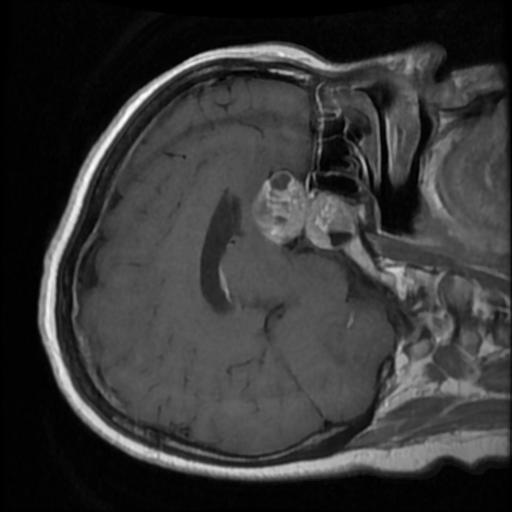pituitary tumour: (250, 178, 357, 250)
